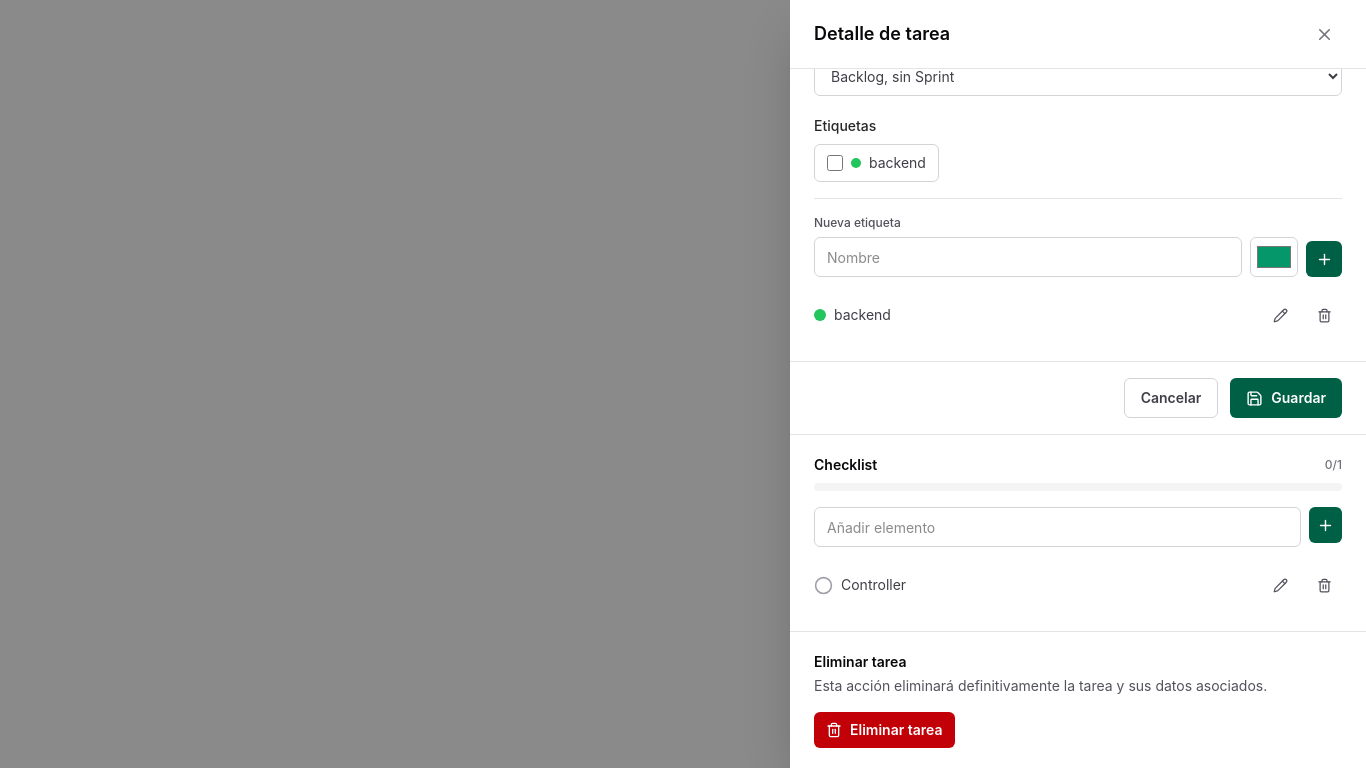
Scenario: task forms › toggles checklist items and updates visible progress
The width and height of the screenshot is (1366, 768).
(page scrolled)
What coordinates should you click on to do the following:
click the button named "Marcar Controller"
I would click on:
 (824, 585)
Its box is [814,576,833,594].
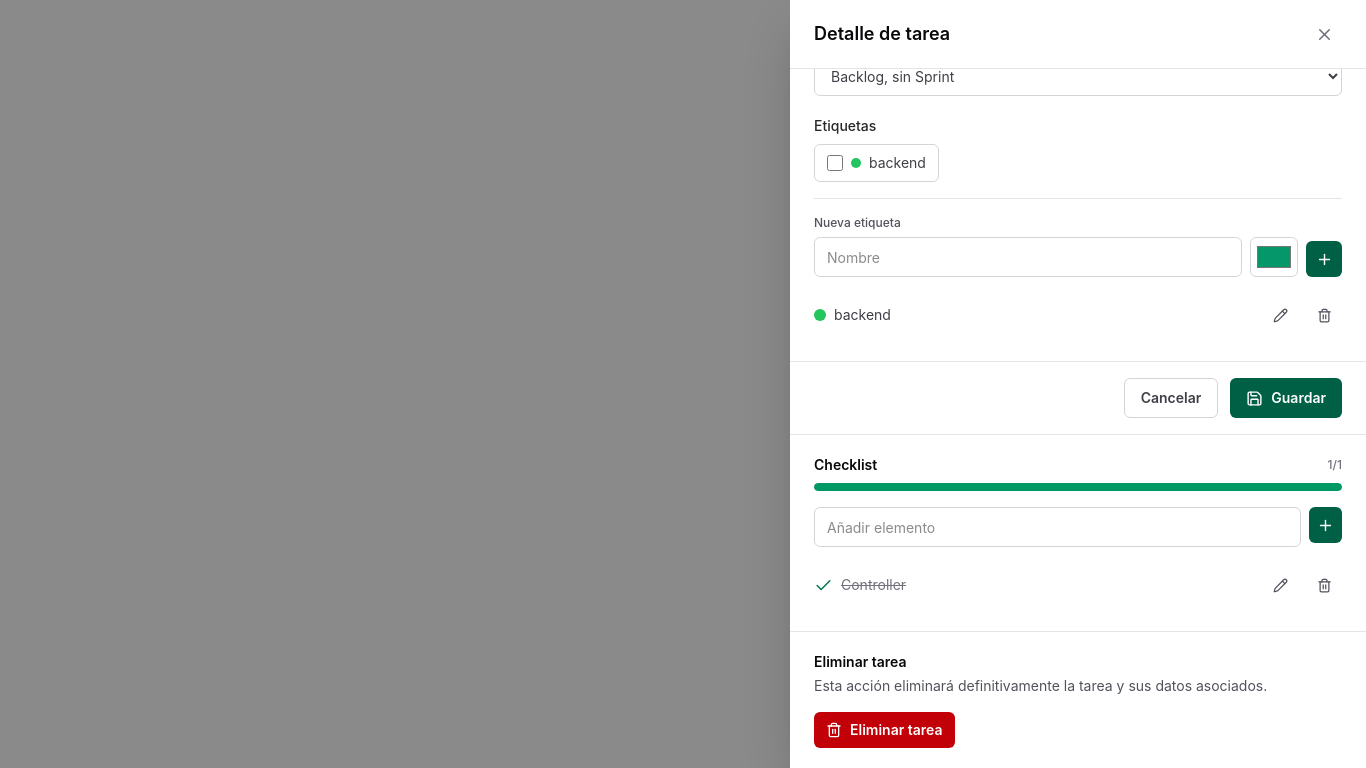
Expected: the progress indicator named "Progreso del checklist: 100%" is shown, [814,483,1342,491]
Expected: the button named "Desmarcar Controller" is shown, [814,576,833,594]
